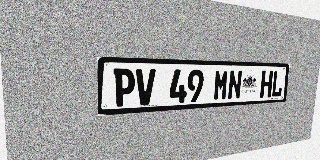4: (169, 69, 188, 103)
9: (187, 69, 204, 102)
H: (260, 71, 273, 98)
L: (271, 71, 284, 97)
M: (213, 70, 229, 101)
N: (227, 70, 242, 100)
P: (113, 68, 135, 107)
V: (135, 69, 156, 105)
